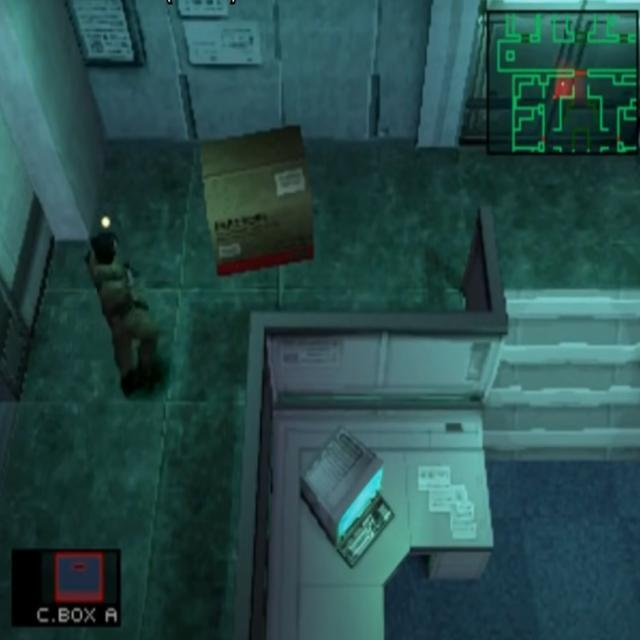snake-in-cardboard-boxes: (194, 120, 319, 280)
